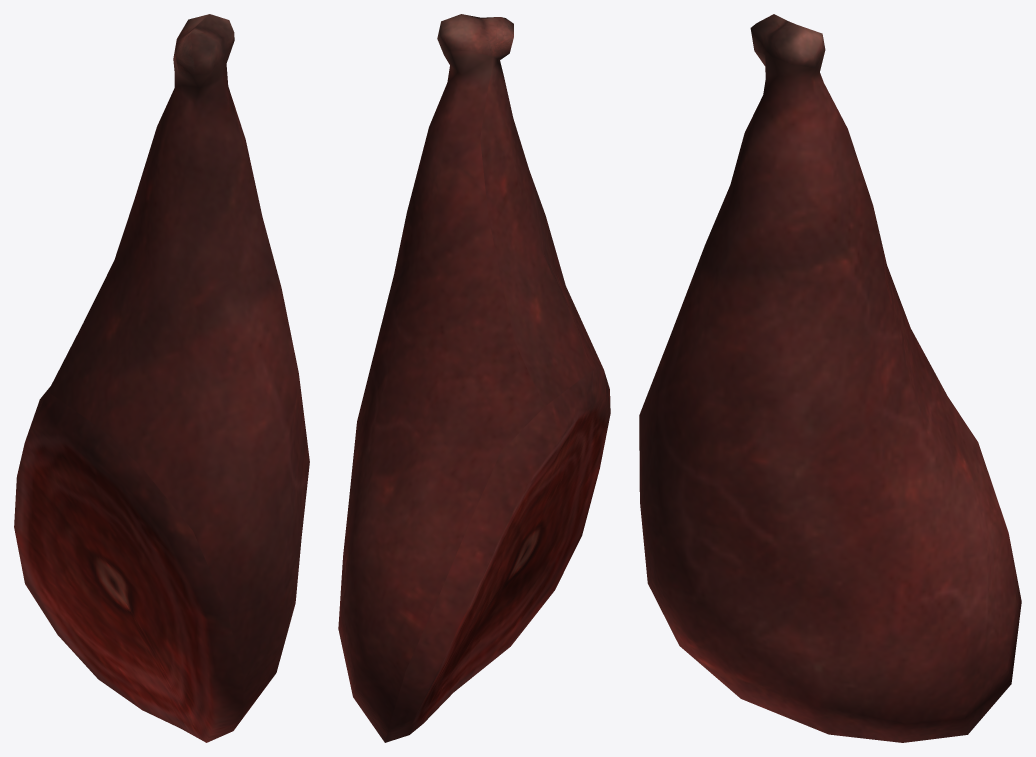
Rendered from meat_04.dae.
The picture shows the model from 3 angles, left to right: view 1: azimuth 30°, elevation 25°; view 2: azimuth 150°, elevation 25°; view 3: azimuth 270°, elevation 25°; orthographic projection. The views are drawn at different scales.
Parts seen in each view (by area): view 1: meat_04; view 2: meat_04; view 3: meat_04.
Part boxes in pixels (x1,y1,x2,y2): meat_04: (14, 14, 309, 742); meat_04: (338, 14, 610, 742); meat_04: (639, 14, 1021, 742).
Size of the model in its own units: 0.0417 by 0.1344 by 0.0652.
